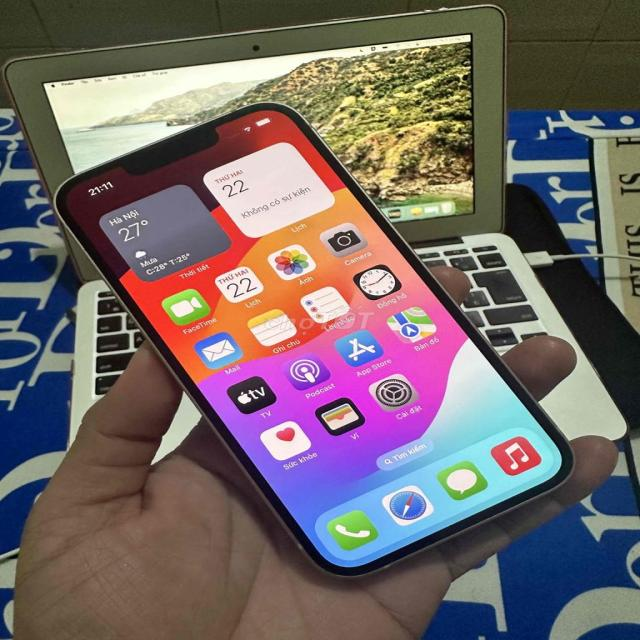gen_12_13: (56, 99, 578, 580)
